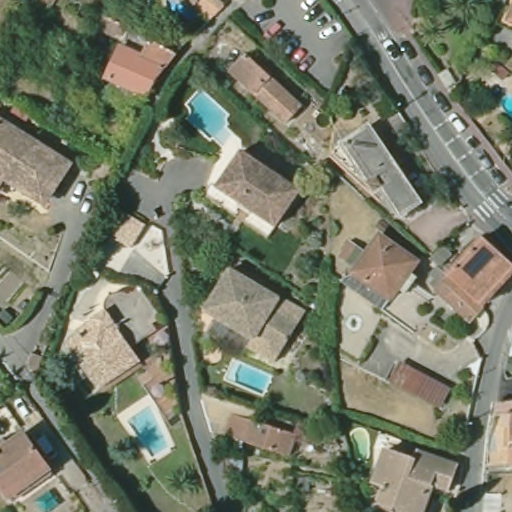pool: (184, 88, 235, 148), (123, 400, 170, 454), (231, 355, 276, 396), (164, 1, 202, 27), (500, 86, 512, 118)
